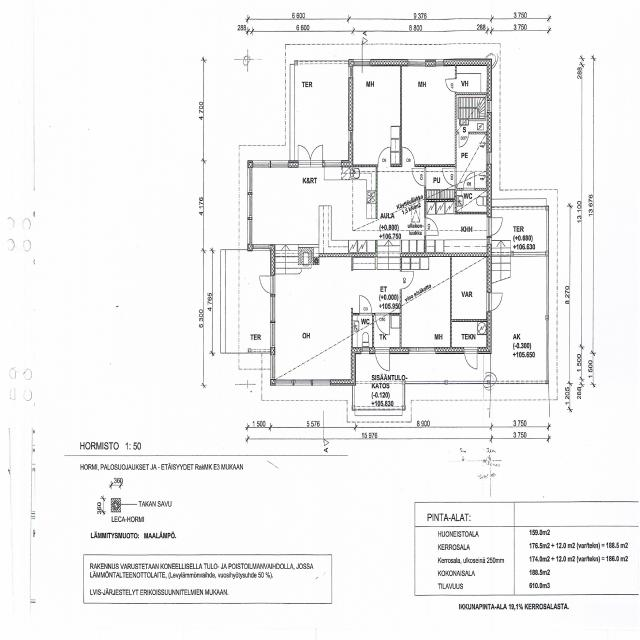door: (375, 347, 389, 374), (464, 347, 477, 372), (310, 142, 323, 166), (375, 313, 389, 335), (486, 293, 504, 310), (486, 218, 504, 235), (258, 276, 275, 293), (298, 142, 310, 166), (359, 295, 372, 315), (402, 147, 415, 167), (412, 168, 426, 186), (378, 147, 390, 167), (424, 218, 438, 235), (442, 168, 456, 185), (400, 271, 413, 289), (464, 172, 474, 190), (459, 132, 468, 147), (446, 79, 456, 92)
